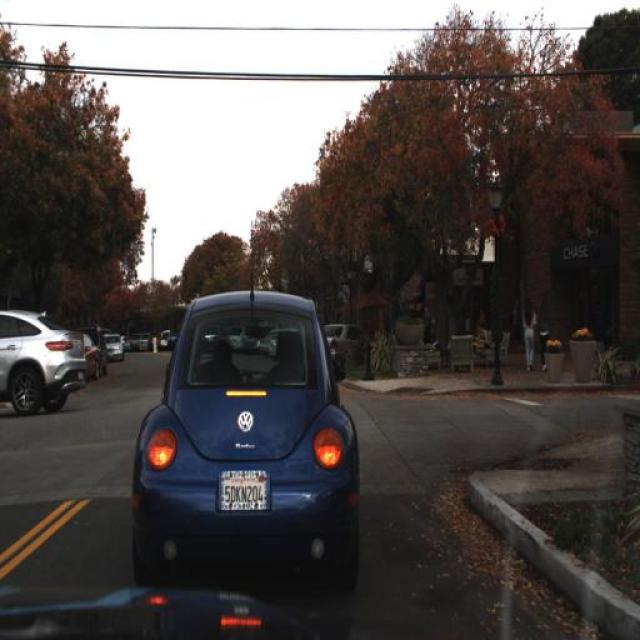car: (126, 267, 362, 594), (0, 308, 86, 424), (320, 320, 370, 365), (78, 332, 102, 382), (106, 330, 126, 360)
trafficLight: (534, 292, 552, 381), (520, 291, 534, 379), (473, 314, 488, 360), (508, 298, 520, 348)
